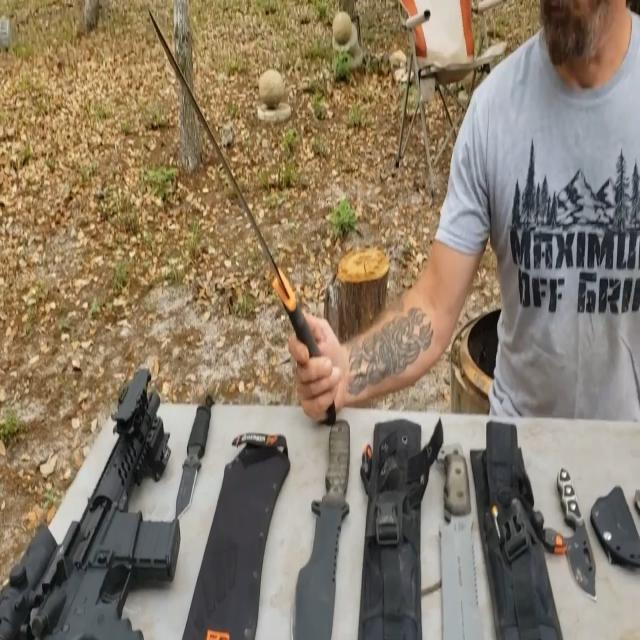knife: (126, 5, 340, 397), (280, 383, 362, 639), (439, 420, 493, 639), (170, 389, 240, 534), (550, 444, 603, 596)
long weapon: (0, 370, 211, 640)
